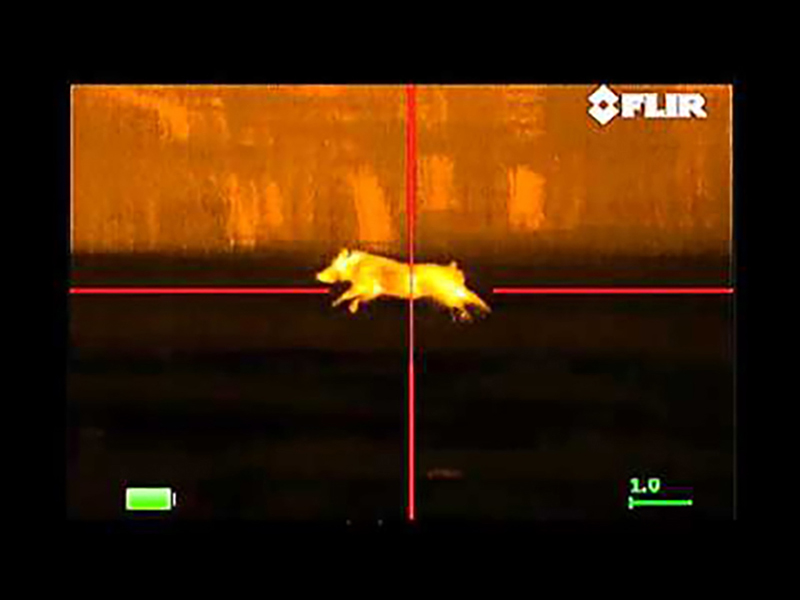cinghiale: (315, 248, 490, 322)
